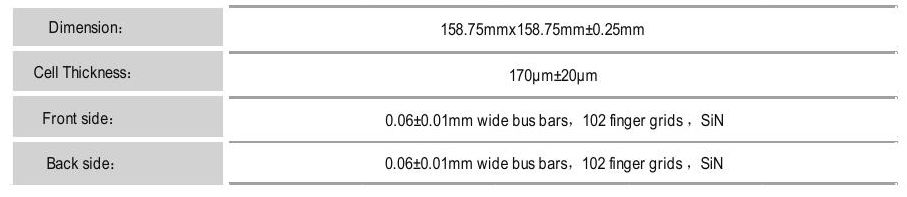table: (4, 3, 905, 194)
table column: (238, 5, 895, 183), (18, 5, 218, 187)
table row: (15, 99, 901, 140), (14, 54, 900, 94), (14, 10, 898, 49), (14, 147, 903, 180)
